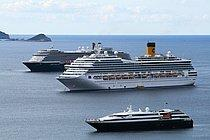Ship: (55, 41, 205, 96), (81, 99, 199, 136), (19, 39, 111, 74)
